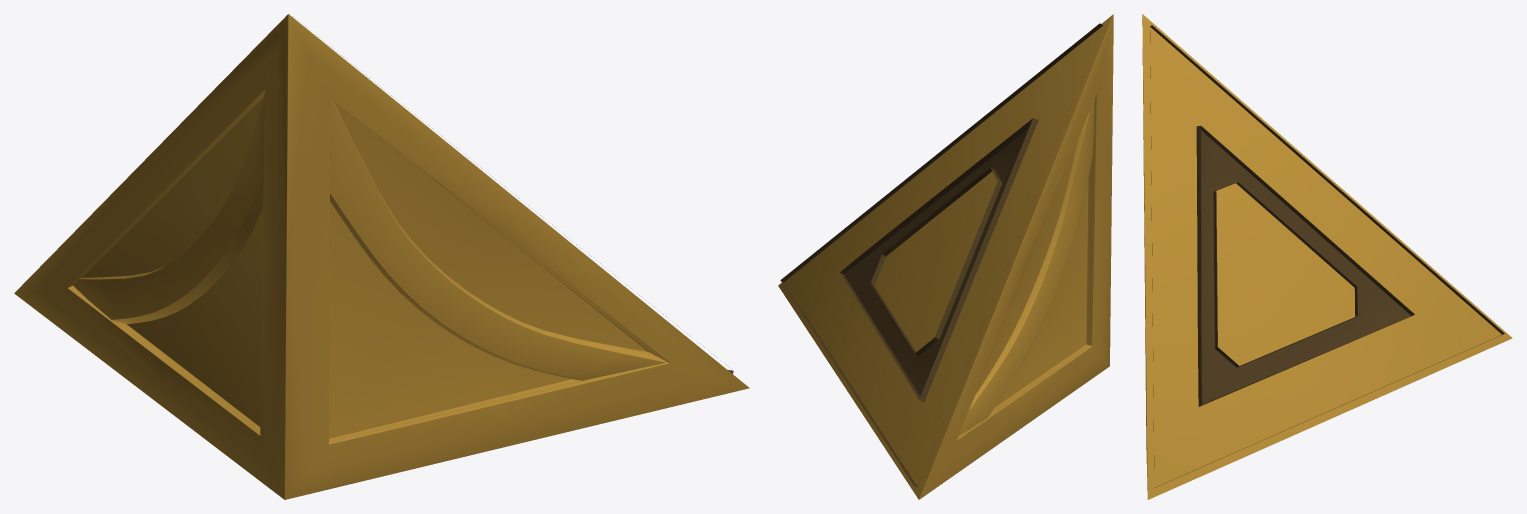
File: Holocron_Esquina_InfIzqFre.obj
3 renders of one model, left to right at view 1: azimuth 30°, elevation 25°; view 2: azimuth 150°, elevation 25°; view 3: azimuth 270°, elevation 25°, orthographic. The views are drawn at different scales.
Parts seen in each view (by area): view 1: Holocron_Esquina_InfIzqFre; view 2: Holocron_Esquina_InfIzqFre; view 3: Holocron_Esquina_InfIzqFre.
Boxes of the visible parts, bbox=[...] form: Holocron_Esquina_InfIzqFre: bbox=[14, 14, 749, 499]; Holocron_Esquina_InfIzqFre: bbox=[778, 14, 1113, 499]; Holocron_Esquina_InfIzqFre: bbox=[1142, 14, 1512, 499].
Size of the model in its own units: 5.15 by 5.16 by 5.21.
